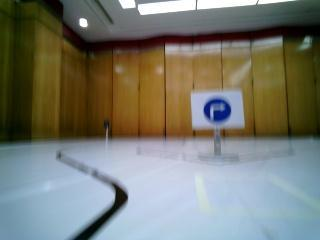right: (195, 92, 241, 128)
